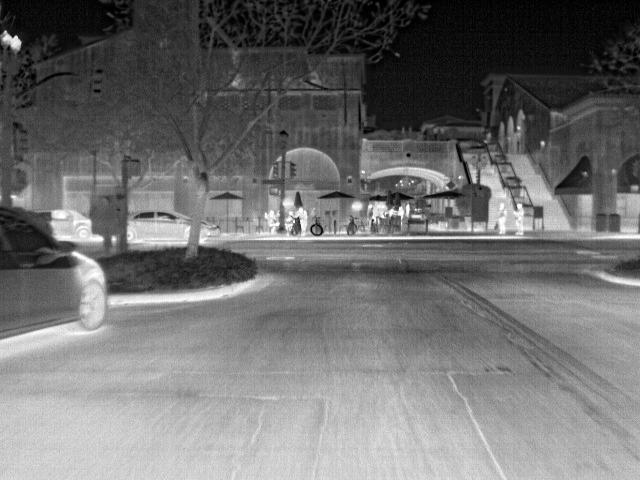car: (1, 205, 110, 343), (128, 208, 194, 243), (50, 210, 103, 241), (200, 221, 223, 240)
person: (494, 201, 510, 236), (512, 201, 527, 236), (294, 206, 310, 236), (267, 209, 282, 227)
